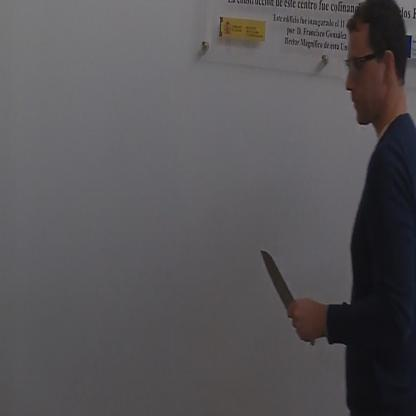knife: (257, 241, 317, 348)
